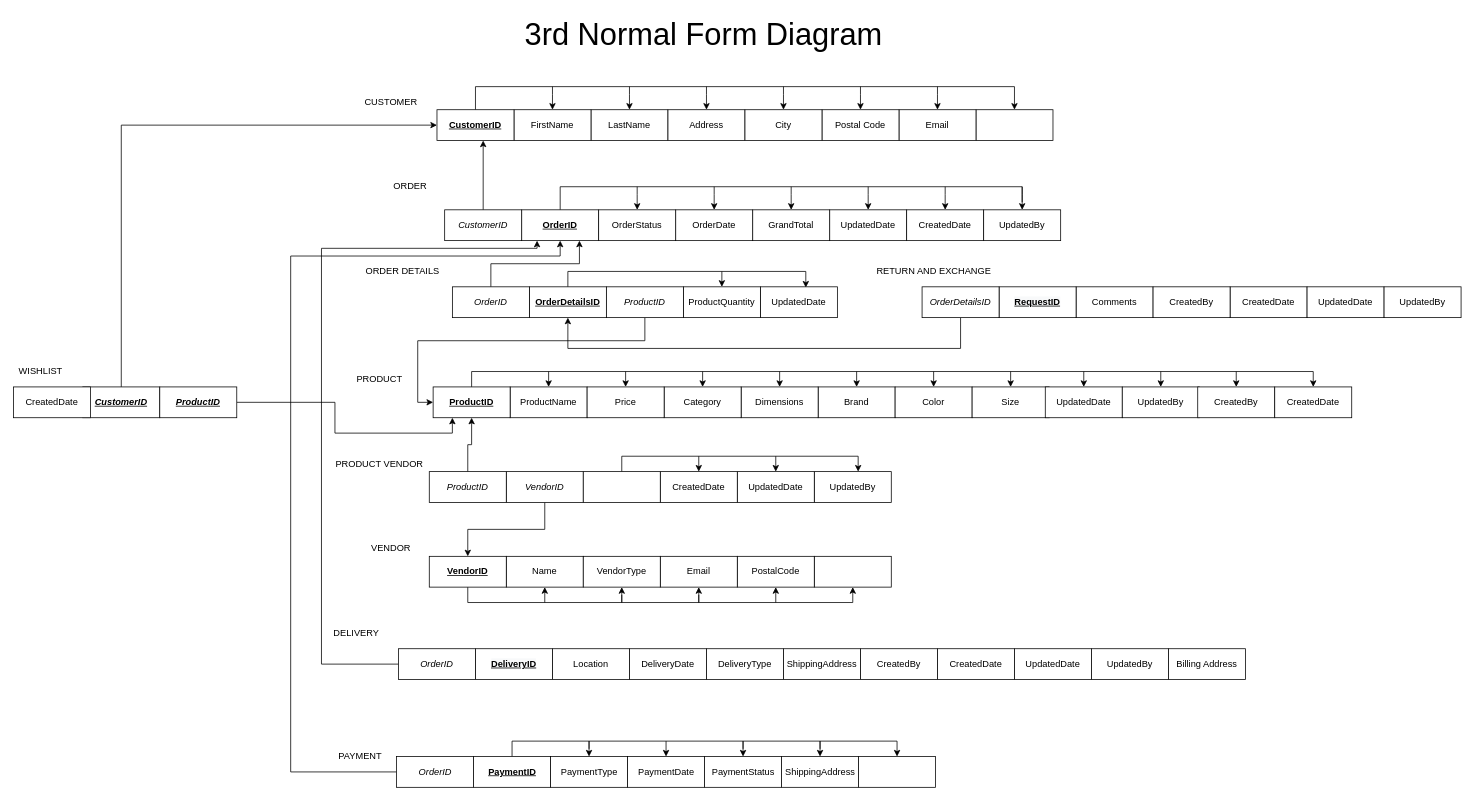
Image size: 1475x801. Some labels were removed from this diagram. Each missing label, with the centre of its shape:
"BillingAddress" belongs at (897,771).
"Phone no" belongs at (1014,125).
"PhoneNo" belongs at (852,571).
"ProductVendorID" belongs at (621,486).
